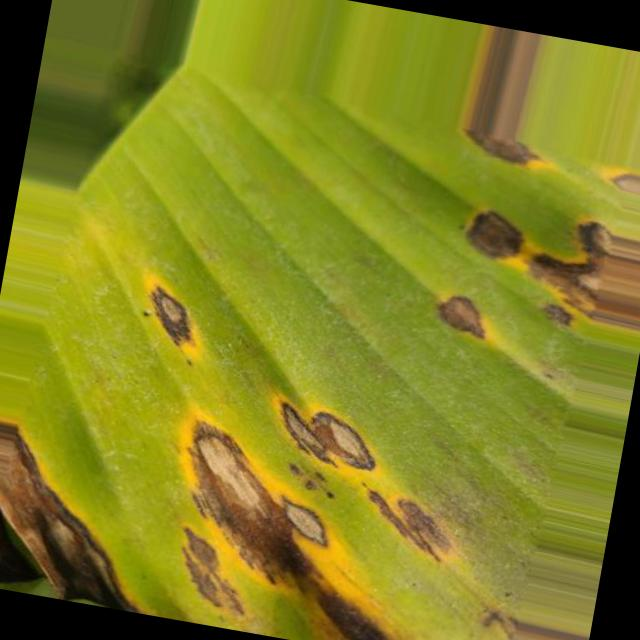Banana_Yellow_Sigatoka: (142, 394, 472, 640), (401, 166, 640, 379), (434, 19, 570, 162), (110, 264, 214, 367)
